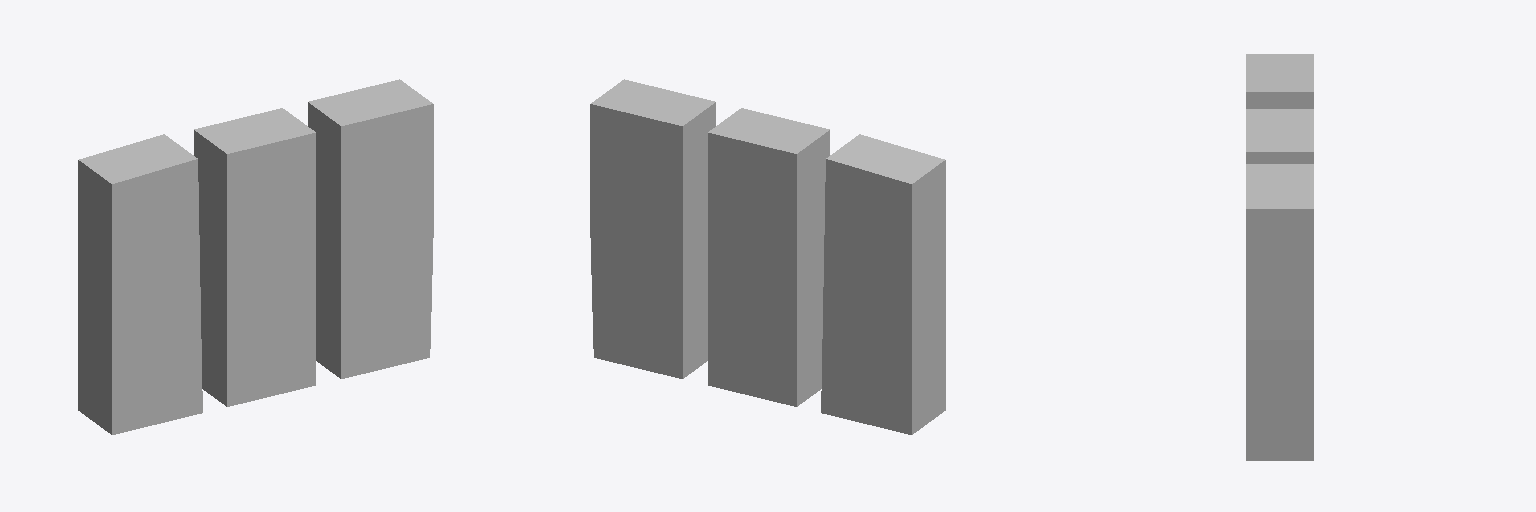
File: sin_nombre.obj
3 renders of one model, left to right at view 1: azimuth 30°, elevation 25°; view 2: azimuth 150°, elevation 25°; view 3: azimuth 270°, elevation 25°, orthographic.
Visible parts, largest first — view 1: 3d-model; view 2: 3d-model; view 3: 3d-model.
Boxes of the visible parts, x1,y1,x2,y2 form: 3d-model: [78, 79, 433, 434]; 3d-model: [590, 79, 945, 434]; 3d-model: [1246, 54, 1313, 460].
Size of the model in its own units: 10.77 by 8.19 by 1.95.